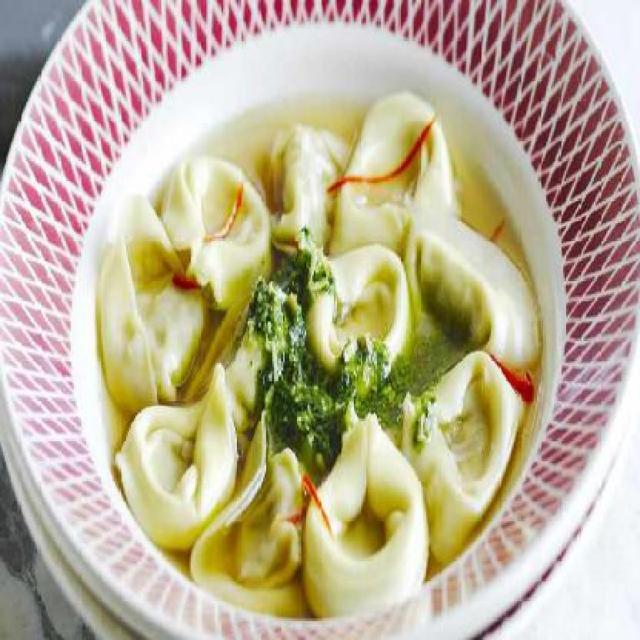Tortellini in broth: (103, 74, 565, 586)
